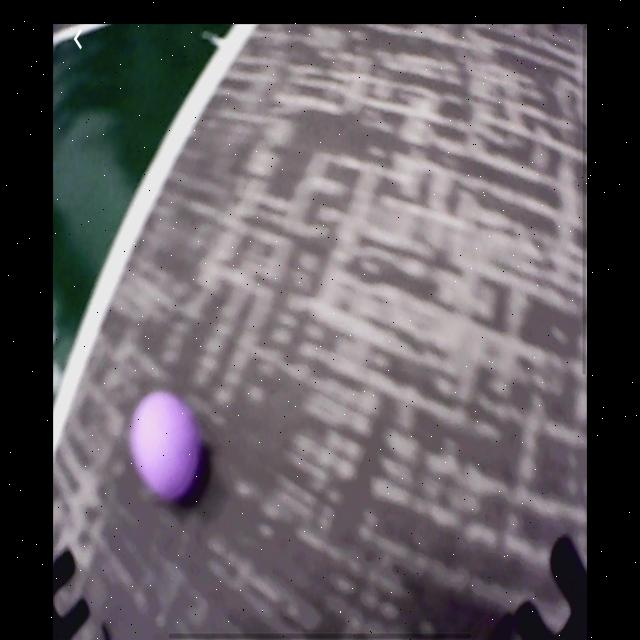ball: (132, 393, 201, 497)
